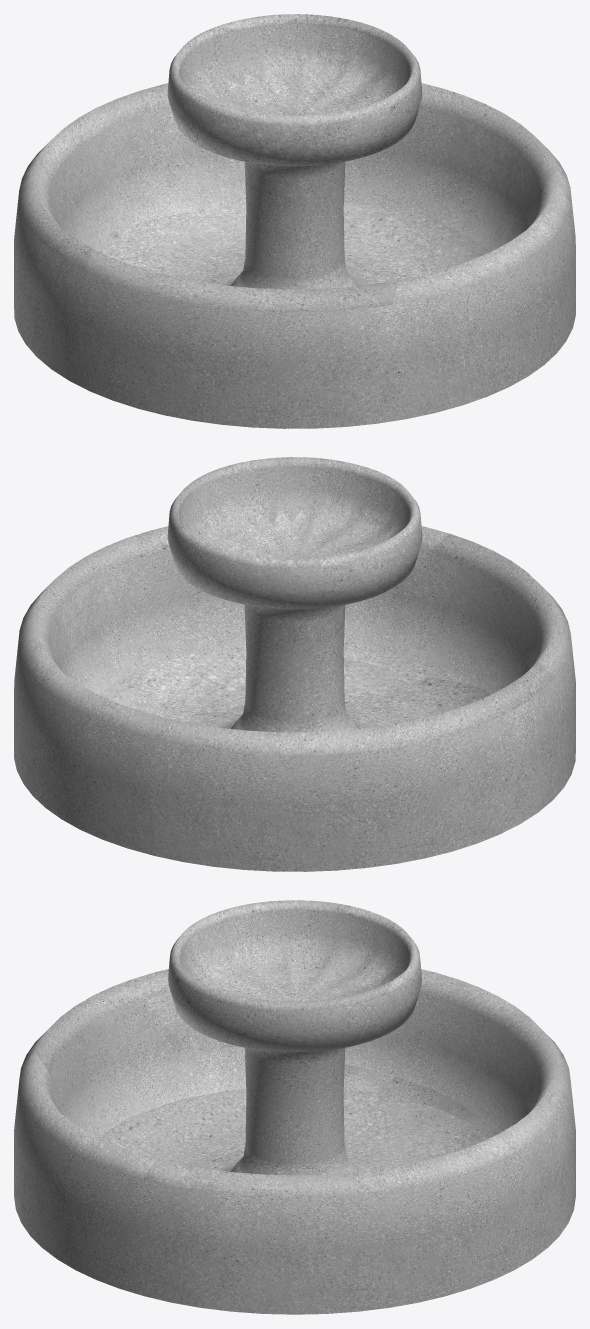
The model's file is Fountain.FBX.
The picture shows the model from 3 angles, top to bottom: view 1: azimuth 30°, elevation 25°; view 2: azimuth 150°, elevation 25°; view 3: azimuth 270°, elevation 25°; orthographic projection.
Visible parts, largest first — view 1: Circle001; view 2: Circle001; view 3: Circle001.
Boxes of the visible parts, bbox=[...] form: Circle001: bbox=[14, 14, 575, 428]; Circle001: bbox=[14, 457, 575, 871]; Circle001: bbox=[14, 900, 575, 1314].
Bounding box in the file's own units: 5.04 × 2.42 × 5.04.
1 material, 1 textured.
